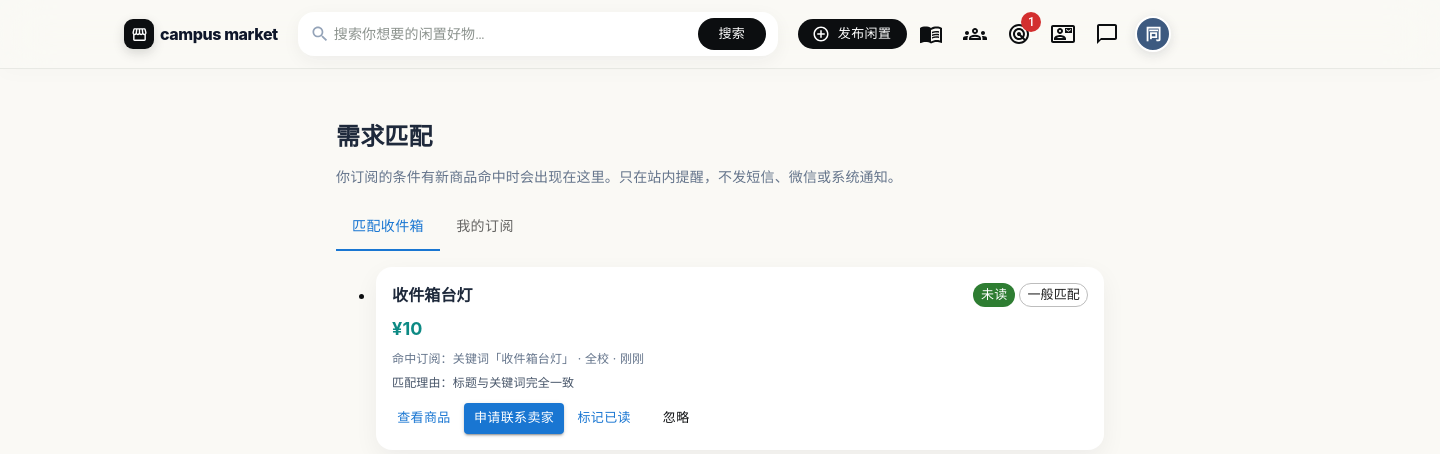
Test: 2.4 收件箱 › 9. 忽略后从列表消失
Click the button "忽略".
click(676, 418)  # box [644,403,708,434]
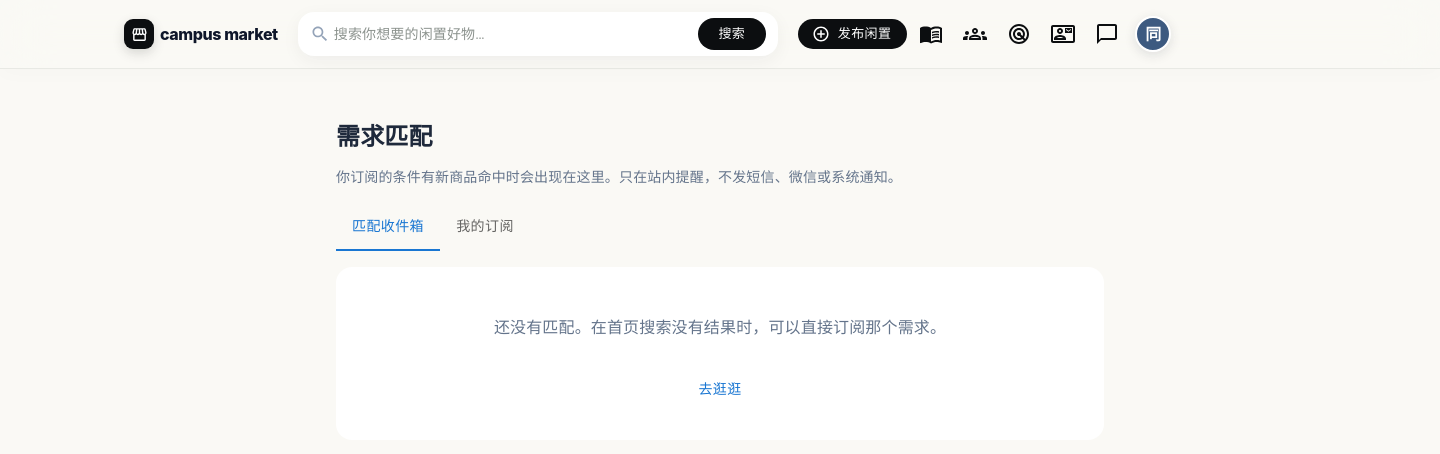
Expected: the text "还没有匹配。在首页搜索没有结果时，可以直接订阅那个需求。" is shown, [494,317,946,337]
